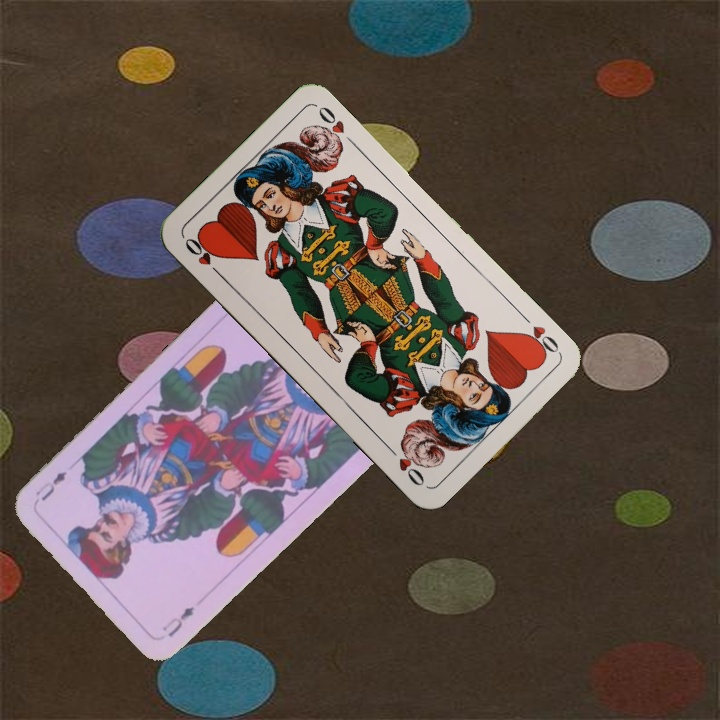EU: (158, 602, 198, 640)
HO: (517, 309, 563, 360), (180, 233, 225, 280)
